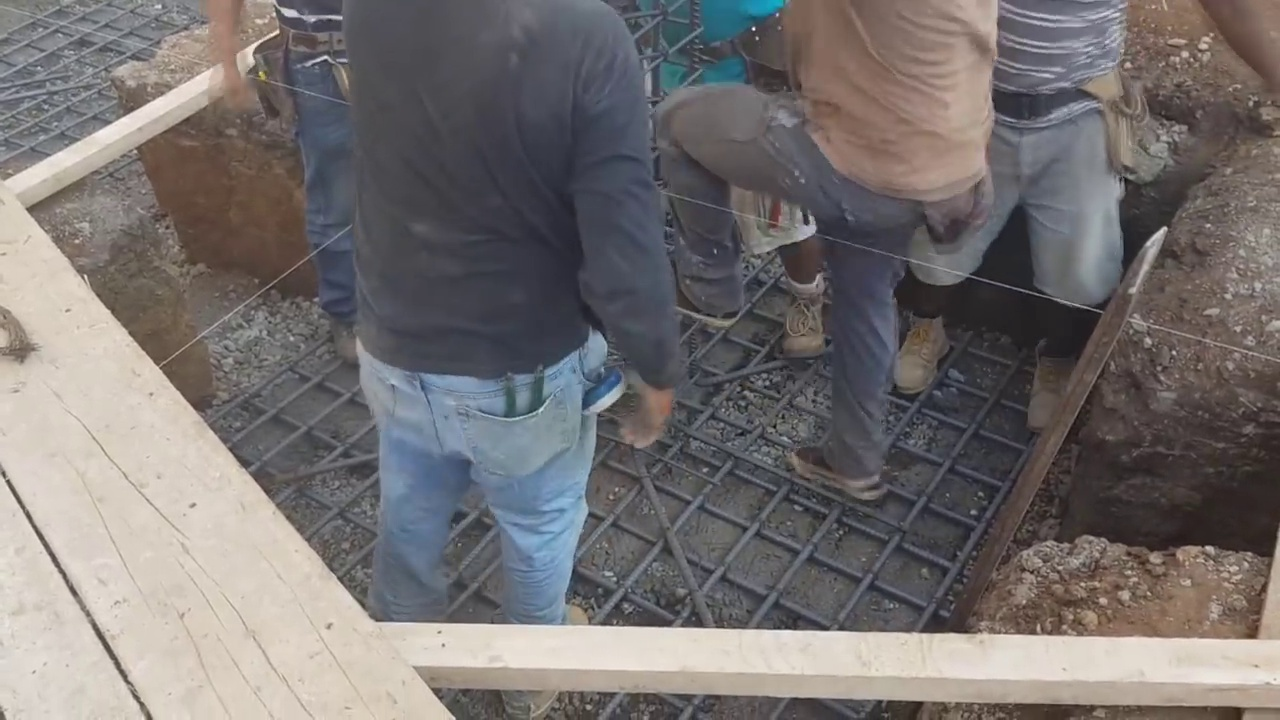person: (336, 0, 686, 651), (656, 0, 1003, 502), (898, 0, 1159, 429), (648, 0, 852, 355), (207, 3, 363, 383)
